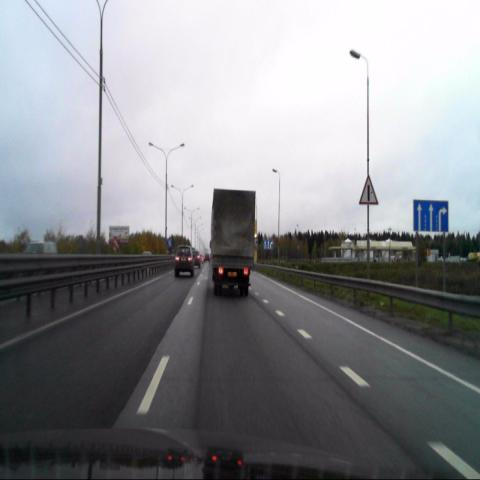5_15_1: (412, 200, 448, 232)
